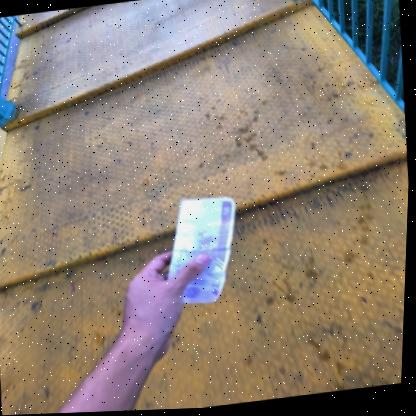one_hundred-back-vef: (160, 195, 246, 310)
